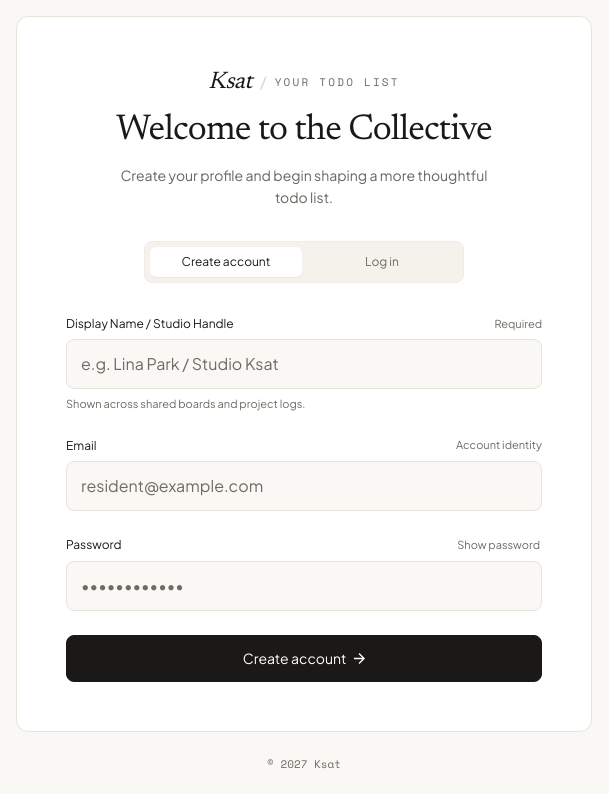
Test: AuthScreen › shows validation messages for incomplete signup details
Click the button "Create account" at (304, 659), box x1=66 y1=635 x2=542 y2=682
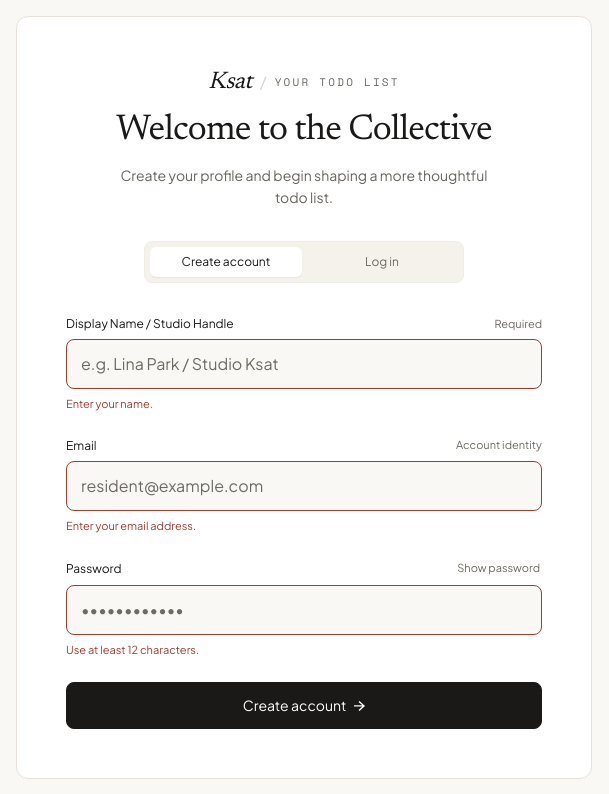
Now the text "Enter your name." is shown, box x1=66 y1=397 x2=153 y2=410
Now the text "Enter your email address." is shown, box x1=66 y1=519 x2=196 y2=532
Now the text "Use at least 12 characters." is shown, box x1=66 y1=643 x2=199 y2=656
